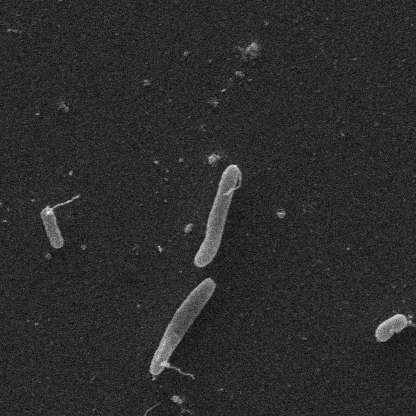cell2surface: (160, 359, 198, 382), (44, 192, 81, 213), (405, 319, 416, 333)
regular: (151, 276, 219, 374), (194, 160, 238, 270), (38, 206, 64, 251), (374, 315, 408, 342)
